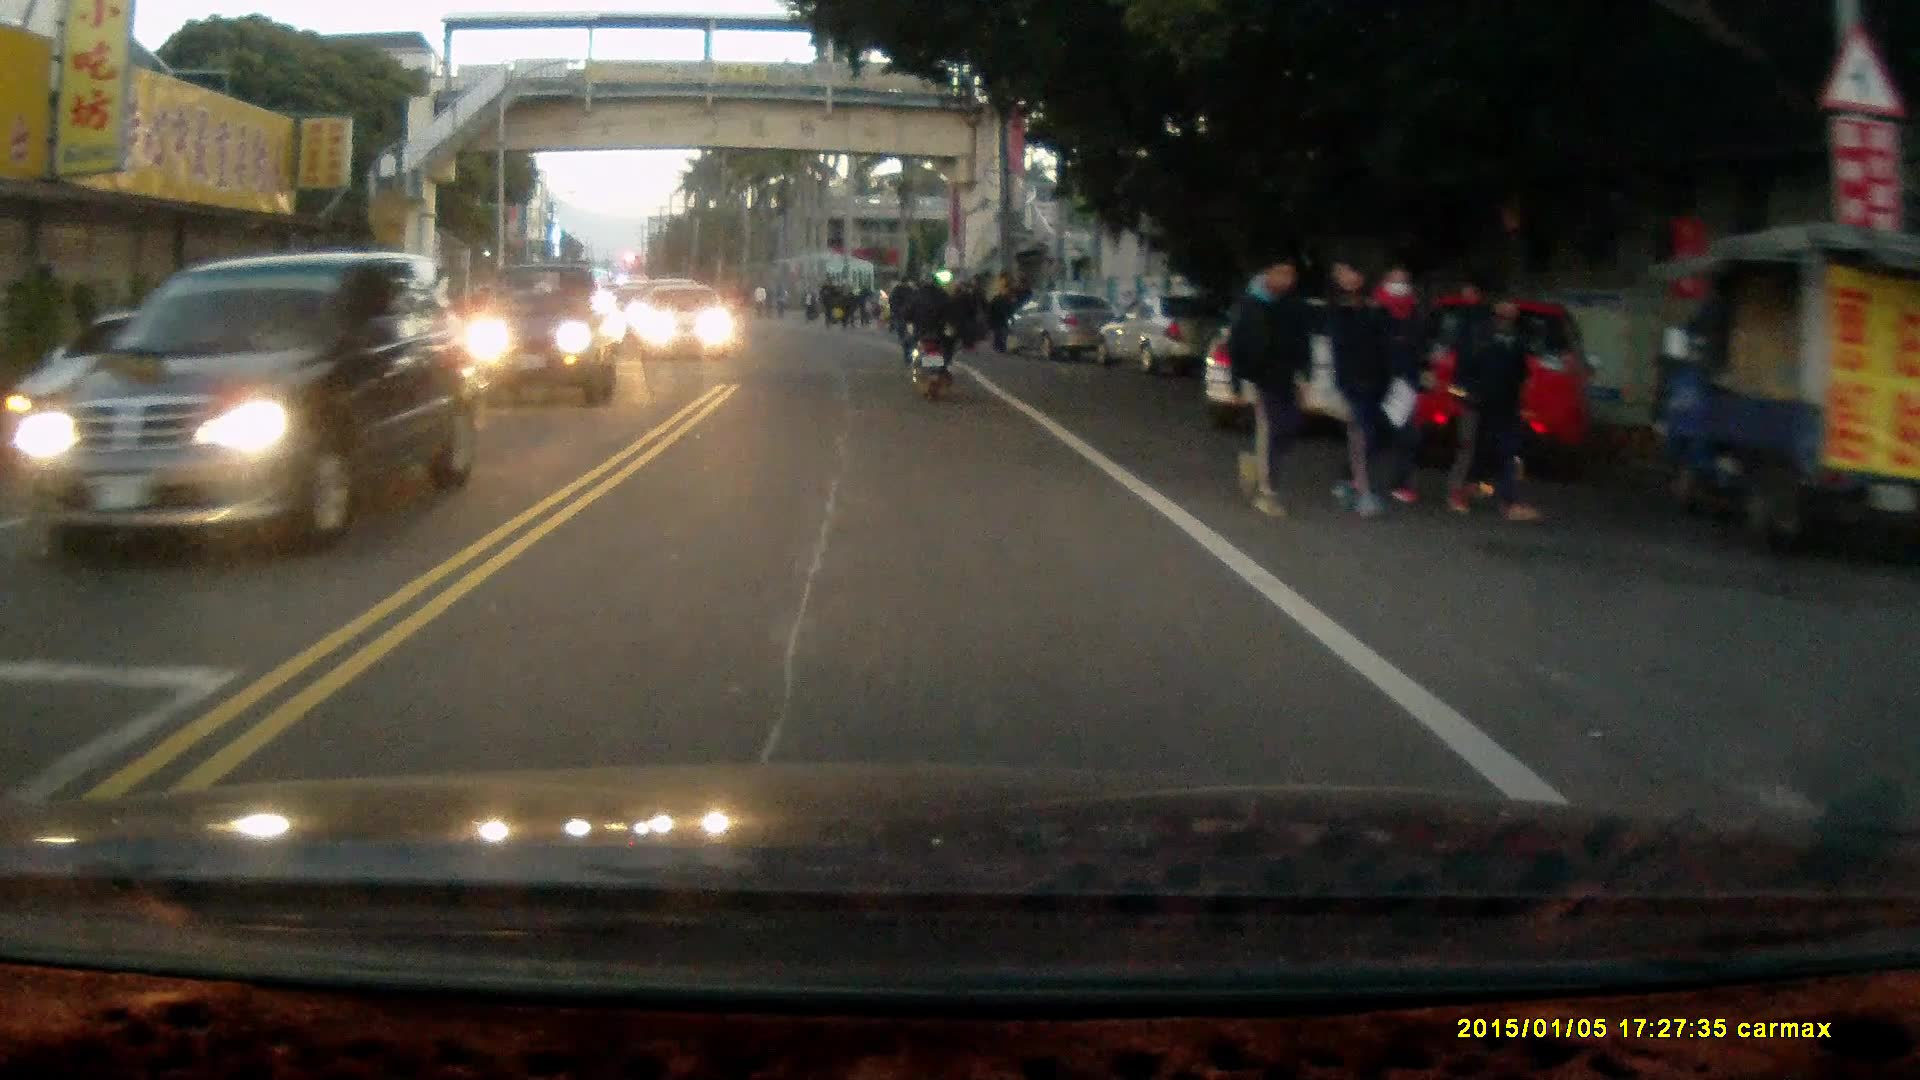pedestrian: (1221, 242, 1317, 521), (1321, 253, 1400, 524), (1457, 283, 1540, 526), (1356, 258, 1436, 503), (961, 269, 990, 350), (985, 282, 1014, 350), (950, 277, 974, 352)
rider: (891, 269, 959, 404)
vehicle: (53, 249, 464, 569), (1356, 287, 1599, 480), (1200, 285, 1419, 433), (466, 265, 622, 407), (1101, 289, 1219, 373), (1004, 291, 1125, 360), (642, 285, 738, 362)
